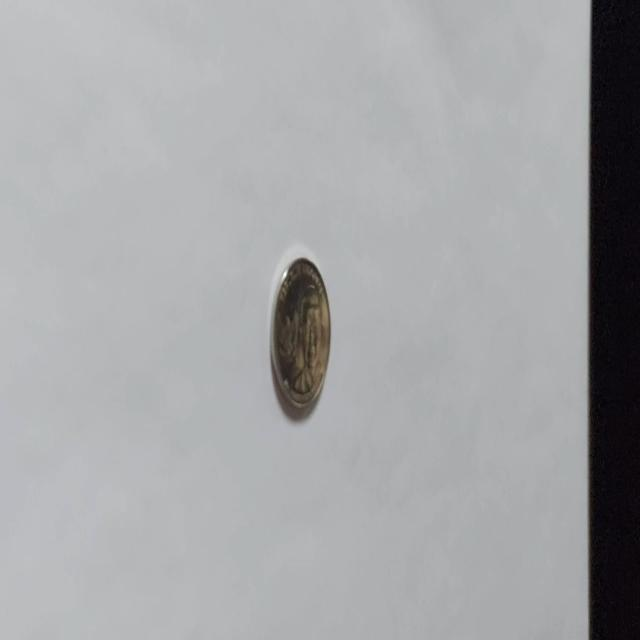seribu rupiah koin: (268, 253, 332, 412)
